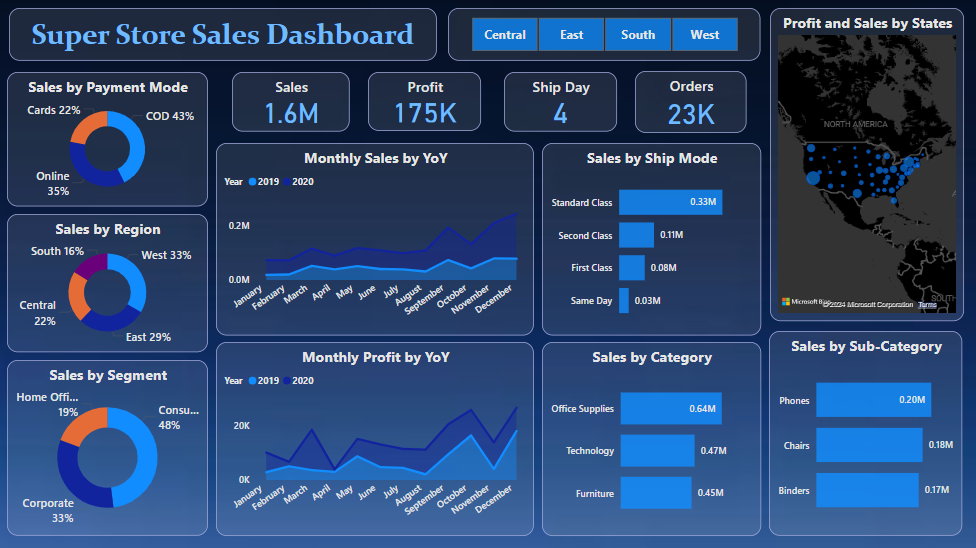

The dashboard page shown, as its layout file describes it:
{"tool":"powerbi","page":{"name":"Page 1","canvas":[1280,720],"ordinal":0},"visuals":[{"type":"clusteredBarChart","title":"Sales by Category","fields":{"Category":["SuperStore_Sales_Dataset.Category"],"Y":["Sum(SuperStore_Sales_Dataset.Sales)"]},"box":[710.4,449.3,286.6,253.7],"z":0},{"type":"clusteredBarChart","title":"Sales by Sub-Category","fields":{"Category":["SuperStore_Sales_Dataset.Sub-Category"],"Y":["Sum(SuperStore_Sales_Dataset.Sales)"]},"box":[1008,434.9,253.4,267.8],"z":1000},{"type":"clusteredBarChart","title":"Sales by Ship Mode","fields":{"Category":["SuperStore_Sales_Dataset.Ship Mode"],"Y":["Sum(SuperStore_Sales_Dataset.Sales)"]},"box":[710.4,188.1,286.6,252.2],"z":2000},{"type":"stackedAreaChart","title":"Monthly Sales by YoY","fields":{"Y":["Sum(SuperStore_Sales_Dataset.Sales)"],"Category":["SuperStore_Sales_Dataset.Order Date.Variation.Date Hierarchy.Month"],"Series":["SuperStore_Sales_Dataset.Order Date.Variation.Date Hierarchy.Year"]},"box":[283.6,188.1,416.4,252.2],"z":3000},{"type":"stackedAreaChart","title":"Monthly Profit by YoY","fields":{"Category":["SuperStore_Sales_Dataset.Order Date.Variation.Date Hierarchy.Month"],"Series":["SuperStore_Sales_Dataset.Order Date.Variation.Date Hierarchy.Year"],"Y":["Sum(SuperStore_Sales_Dataset.Profit)"]},"box":[283.6,449.3,416.4,253.7],"z":4000},{"type":"map","title":"Profit and Sales by States","fields":{"Category":["SuperStore_Sales_Dataset.State"],"Size":["Sum(SuperStore_Sales_Dataset.Sales)"]},"box":[1009,11.9,253.7,410.4],"z":5000},{"type":"donutChart","title":"Sales by Segment","fields":{"Category":["SuperStore_Sales_Dataset.Segment"],"Y":["Sum(SuperStore_Sales_Dataset.Sales)"]},"box":[10.5,472.6,263.1,230.4],"z":6000},{"type":"donutChart","title":"Sales by Region","fields":{"Category":["SuperStore_Sales_Dataset.Region"],"Y":["Sum(SuperStore_Sales_Dataset.Sales)"]},"box":[10.4,282.1,262.7,180.6],"z":7000},{"type":"donutChart","title":"Sales by Payment Mode","fields":{"Category":["SuperStore_Sales_Dataset.Payment Mode"],"Y":["Sum(SuperStore_Sales_Dataset.Sales)"]},"box":[10.4,95.5,262.7,176.1],"z":8000},{"type":"slicer","fields":{"Values":["SuperStore_Sales_Dataset.Region"]},"box":[588.1,11.9,409,68.7],"z":9000},{"type":"textbox","box":[13.4,11.9,559.7,68.7],"z":10000},{"type":"card","title":"Sales","fields":{"Values":["Sum(SuperStore_Sales_Dataset.Sales)"]},"box":[304.5,95.5,153.7,77.6],"z":11000},{"type":"card","title":"Profit","fields":{"Values":["Sum(SuperStore_Sales_Dataset.Profit)"]},"box":[482.4,95,148.3,79.2],"z":12000},{"type":"card","title":"Ship Day","fields":{"Values":["Avg(SuperStore_Sales_Dataset.Avg Delivery)"]},"box":[661.2,95.5,147.8,77.6],"z":13000},{"type":"card","title":"Orders","fields":{"Values":["Sum(SuperStore_Sales_Dataset.Avg Delivery)"]},"box":[832.8,94,146.3,80.6],"z":14000}]}

Visuals, with their boxes in screenshot pixels (x1, y1, x2, y2), scaled from the page's 1280x720 canvas onto the 976x548 screenshot:
"Sales by Category" clusteredBarChart: box=[542, 342, 760, 535]
"Sales by Sub-Category" clusteredBarChart: box=[769, 331, 962, 535]
"Sales by Ship Mode" clusteredBarChart: box=[542, 143, 760, 335]
"Monthly Sales by YoY" stackedAreaChart: box=[216, 143, 534, 335]
"Monthly Profit by YoY" stackedAreaChart: box=[216, 342, 534, 535]
"Profit and Sales by States" map: box=[769, 9, 963, 321]
"Sales by Segment" donutChart: box=[8, 360, 209, 535]
"Sales by Region" donutChart: box=[8, 215, 208, 352]
"Sales by Payment Mode" donutChart: box=[8, 73, 208, 207]
slicer - SuperStore_Sales_Dataset.Region: box=[448, 9, 760, 61]
textbox: box=[10, 9, 437, 61]
"Sales" card: box=[232, 73, 349, 132]
"Profit" card: box=[368, 72, 481, 133]
"Ship Day" card: box=[504, 73, 617, 132]
"Orders" card: box=[635, 72, 747, 133]
